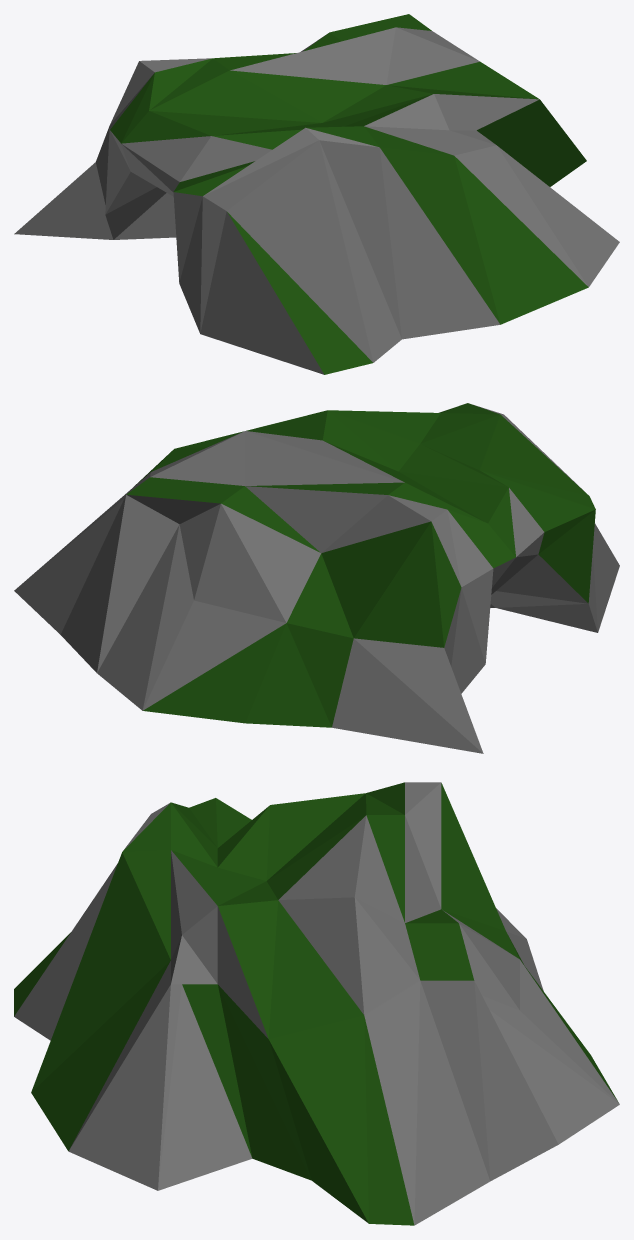
Rendered from Cave_4.fbx.
3 views of the same model, one above another, from view 1: azimuth 30°, elevation 25°; view 2: azimuth 150°, elevation 25°; view 3: azimuth 270°, elevation 25° (orthographic). The views are drawn at different scales.
Visible parts, largest first — view 1: Cave_4; view 2: Cave_4; view 3: Cave_4.
Part boxes in pixels (bbox=[...]): Cave_4: bbox=[14, 14, 619, 374]; Cave_4: bbox=[14, 403, 619, 753]; Cave_4: bbox=[14, 782, 619, 1225].
Bounding box in the file's own units: 1040 × 365 × 930.
